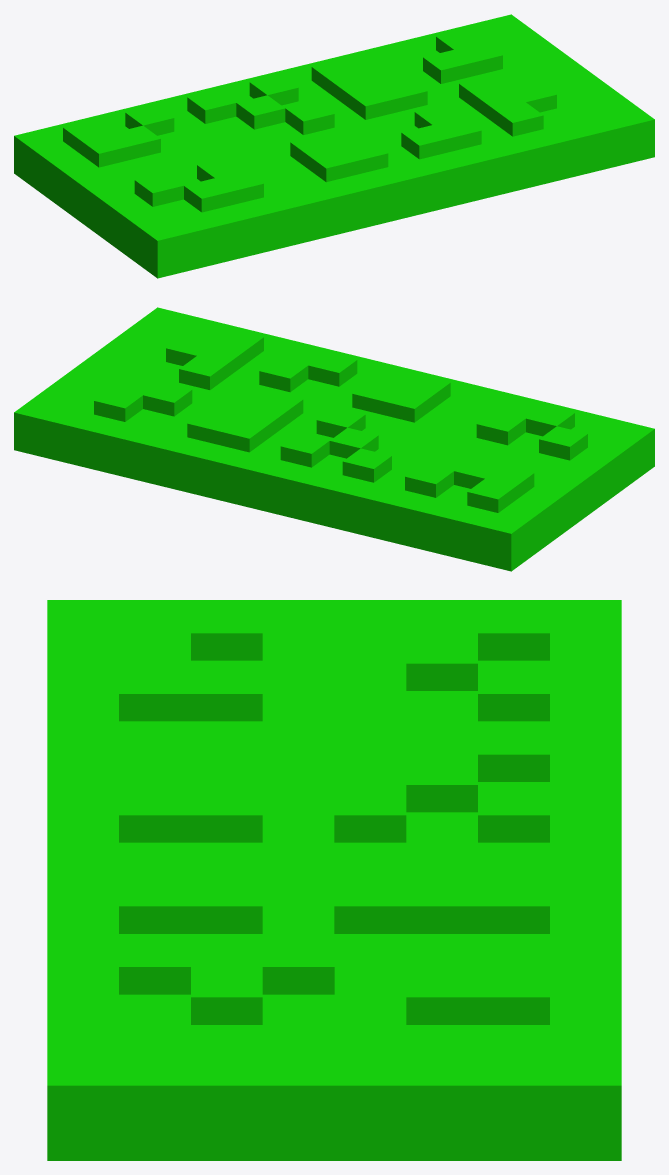
The model's file is green tali.fbx.
3 renders of one model, top to bottom at view 1: azimuth 30°, elevation 25°; view 2: azimuth 150°, elevation 25°; view 3: azimuth 270°, elevation 25°, orthographic. The views are drawn at different scales.
Parts seen in each view (by area): view 1: Cube; view 2: Cube; view 3: Cube.
Part boxes in pixels (left/top/right/bottom): Cube: left=14, top=14, right=654, bottom=278; Cube: left=14, top=307, right=654, bottom=571; Cube: left=47, top=600, right=621, bottom=1160.
Bounding box in the file's own units: 400 × 39.5 × 200.
